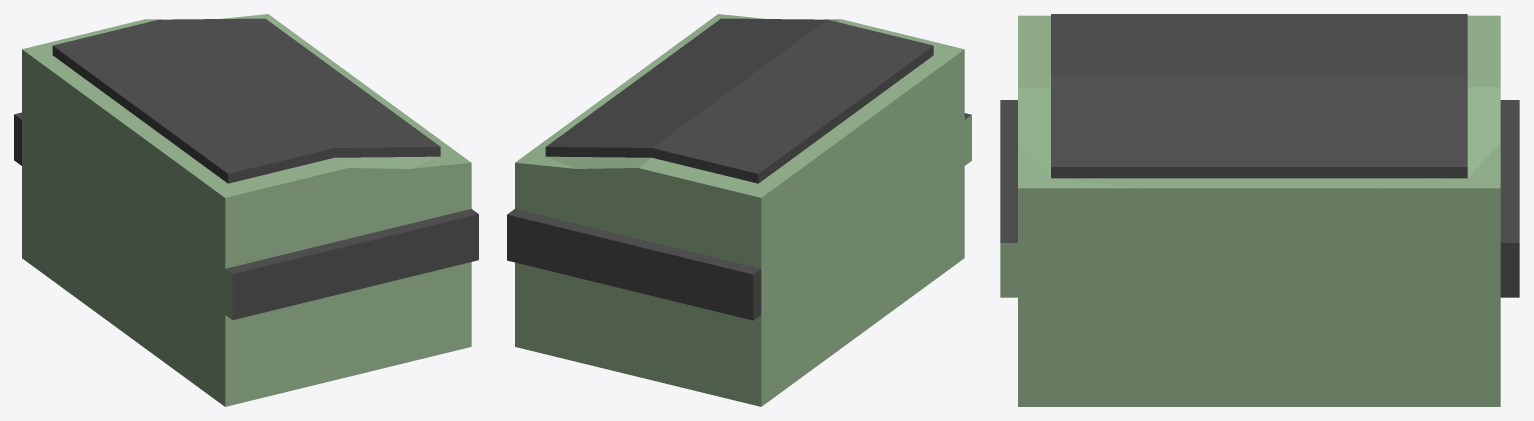
File: dumpster.glb
3 renders of one model, left to right at view 1: azimuth 30°, elevation 25°; view 2: azimuth 150°, elevation 25°; view 3: azimuth 270°, elevation 25°, orthographic. The views are drawn at different scales.
Visible parts, largest first — view 1: Plane; view 2: Plane; view 3: Plane.
Part boxes in pixels (x1=…): Plane: x1=14, y1=14, x2=478, y2=406; Plane: x1=507, y1=14, x2=971, y2=406; Plane: x1=1000, y1=14, x2=1519, y2=406.
Bounding box in the file's own units: 1.4 × 1.19 × 2.15.
